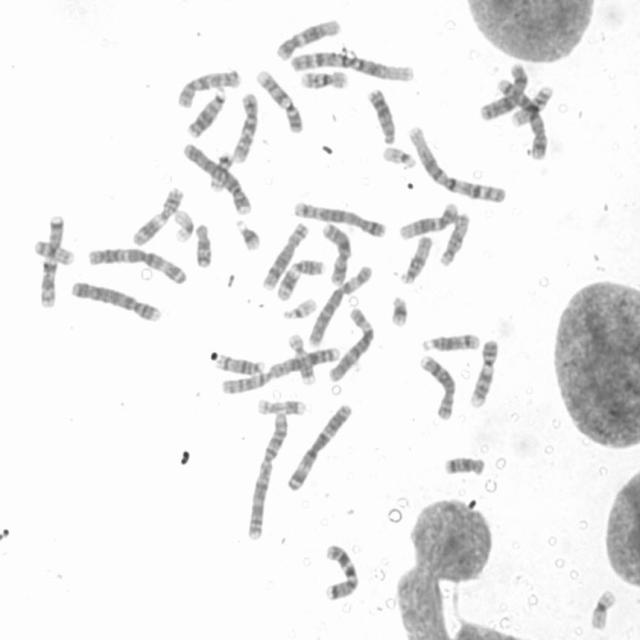A1: (408, 123, 508, 204), (289, 50, 414, 82)
A2: (220, 346, 342, 396), (248, 412, 290, 542)
A3: (285, 404, 355, 491), (87, 247, 189, 287)
B4: (180, 142, 254, 218), (68, 280, 165, 327)
B5: (495, 79, 550, 161), (292, 200, 386, 238)
C10: (176, 68, 243, 109), (231, 91, 258, 164)
C11: (130, 185, 184, 248), (276, 258, 327, 300)
C12: (275, 20, 342, 62), (394, 203, 459, 243)
C6: (307, 265, 374, 347), (326, 308, 376, 384)
C7: (37, 212, 65, 310), (320, 543, 362, 604)
C8: (260, 220, 309, 294), (418, 354, 457, 422)
C9: (255, 69, 304, 134), (468, 338, 500, 408)
D13: (186, 89, 228, 140), (363, 87, 398, 145)
D14: (216, 351, 266, 376), (421, 332, 482, 352)
D15: (398, 235, 433, 286), (438, 214, 471, 267)
E16: (510, 86, 554, 128), (299, 69, 348, 90)
E17: (288, 331, 318, 387), (255, 397, 308, 417)
E18: (440, 454, 489, 479), (193, 223, 212, 269)
F19: (587, 588, 619, 632), (174, 208, 195, 243)
F20: (31, 238, 74, 267), (207, 153, 232, 194)
G21: (235, 218, 263, 255), (386, 293, 413, 330)
G22: (281, 296, 317, 322), (380, 147, 416, 169)
X: (478, 63, 530, 123), (321, 220, 353, 288)
